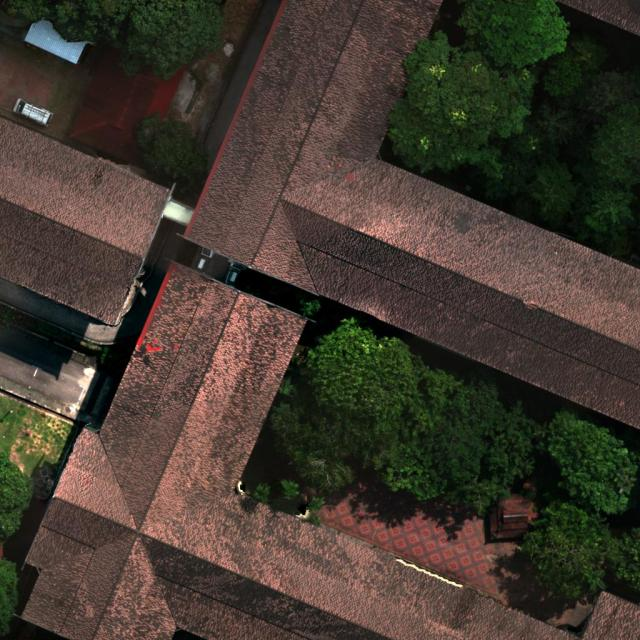Tree: (374, 363, 544, 518), (384, 29, 539, 183), (306, 315, 418, 415), (545, 402, 640, 517), (269, 402, 380, 494), (522, 497, 612, 598), (119, 0, 226, 81), (456, 0, 571, 69), (134, 116, 210, 196), (572, 100, 640, 186), (567, 185, 638, 257), (542, 34, 610, 98), (51, 0, 131, 50), (524, 160, 579, 223), (0, 458, 35, 548), (582, 63, 640, 113), (606, 526, 640, 590), (538, 102, 580, 148), (0, 558, 19, 638), (5, 0, 52, 22), (273, 478, 300, 500), (250, 482, 272, 506), (266, 276, 290, 296), (299, 298, 322, 318), (244, 280, 262, 296), (293, 289, 310, 302)
